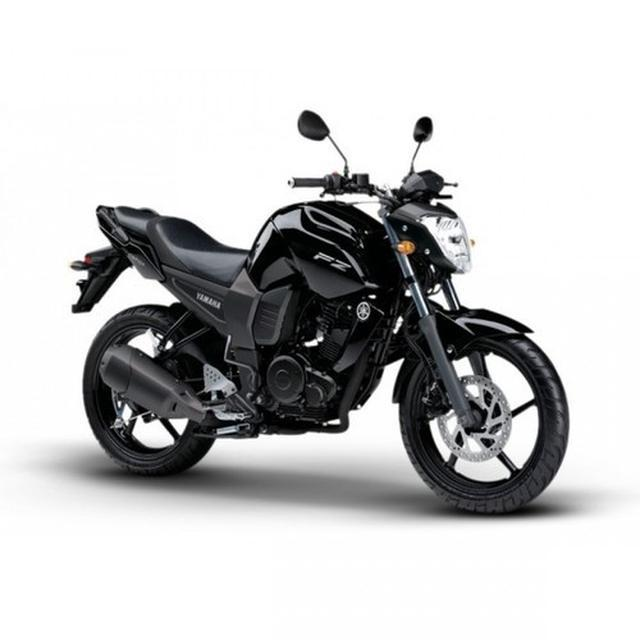motorcycle: (65, 103, 577, 521)
